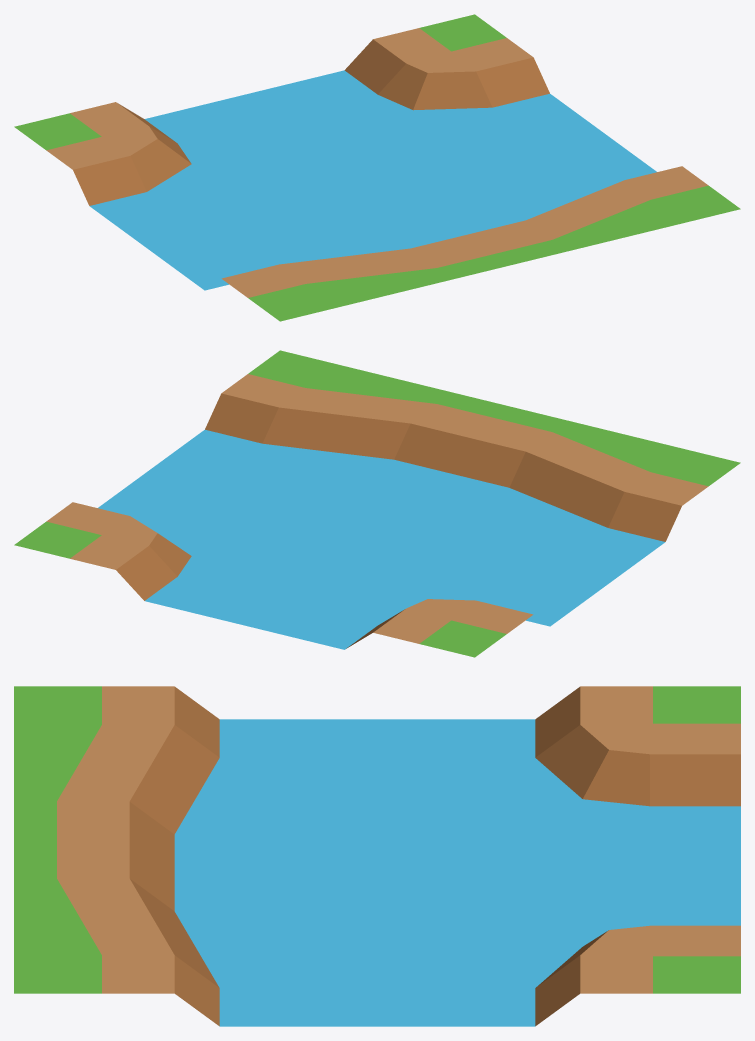
The model's file is river-split.glb.
The picture shows the model from 3 angles, top to bottom: view 1: azimuth 30°, elevation 25°; view 2: azimuth 150°, elevation 25°; view 3: azimuth 270°, elevation 25°; orthographic projection. The views are drawn at different scales.
Parts seen in each view (by area): view 1: ground_riverSplit; view 2: ground_riverSplit; view 3: ground_riverSplit.
Boxes of the visible parts, box(x1,y1,x2,y2) form: ground_riverSplit: box(14, 14, 740, 321); ground_riverSplit: box(14, 350, 740, 657); ground_riverSplit: box(14, 686, 740, 1026).
Size of the model in its own units: 4 by 0.2002 by 4.
